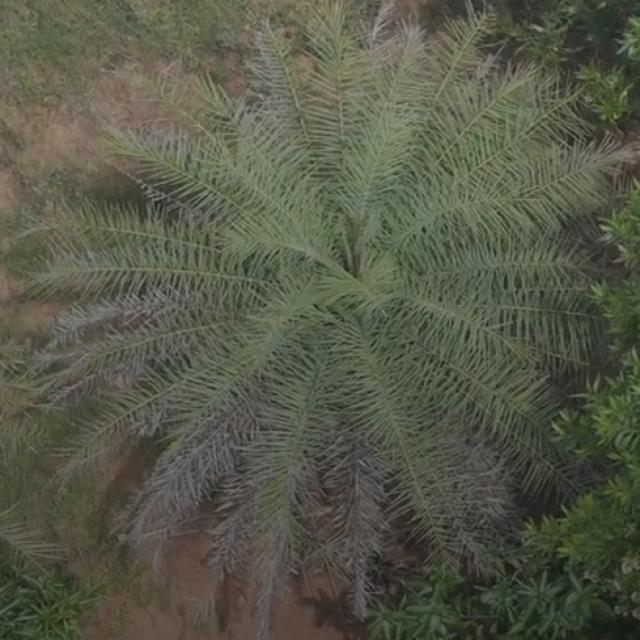notMangoTree: (8, 6, 621, 634)
